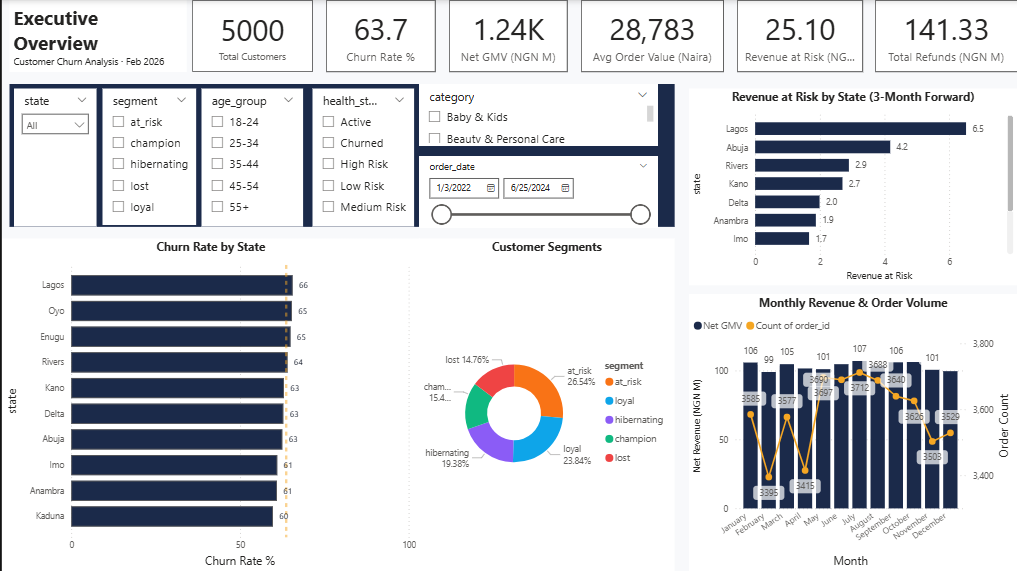

Layout of this report page (visuals, bound fields, positions):
{"tool":"powerbi","page":{"name":"Executive Overview","canvas":[1280,720],"ordinal":0},"visuals":[{"type":"textbox","box":[9.5,0,223,90.8],"z":0},{"type":"card","fields":{"Values":["churn_predictions.Total Customers"]},"box":[240.2,0,151.3,90.8],"z":1000},{"type":"card","fields":{"Values":["churn_predictions.Churn Rate %"]},"box":[408.2,0,138.1,90.8],"z":2000},{"type":"card","fields":{"Values":["churn_predictions.Net GMV"]},"box":[562.9,0,149.4,90.8],"z":3000},{"type":"card","fields":{"Values":["churn_predictions.Avg Order Value"]},"box":[729,0,179.7,90.8],"z":4000},{"type":"card","fields":{"Values":["churn_predictions.Revenue at Risk"]},"box":[925.3,0,158.9,90.8],"z":5000},{"type":"card","fields":{"Values":["churn_predictions.Total Refunds"]},"box":[1100.3,0,179.7,90.8],"z":6000},{"type":"clusteredBarChart","title":"Churn Rate by State","fields":{"Category":["customers.state"],"Y":["churn_predictions.Churn Rate %"]},"box":[0,300,526,420],"z":7000},{"type":"donutChart","title":"Customer Segments","fields":{"Y":["churn_predictions.Total Customers"],"Category":["customers.segment"]},"box":[526,300,322,420],"z":8000},{"type":"lineClusteredColumnComboChart","title":"Monthly Revenue & Order Volume","fields":{"Y":["churn_predictions.Net GMV"],"Y2":["CountNonNull(orders.order_id)"],"Category":["orders.order_date.Variation.Date Hierarchy.Month"]},"box":[866.1,371,413.4,349.8],"z":9000},{"type":"clusteredBarChart","title":"Revenue at Risk by State (3-Month Forward)","fields":{"Category":["churn_predictions.state"],"Y":["churn_predictions.Revenue at Risk"]},"box":[866.1,112.1,413.4,248.3],"z":10000},{"type":"shape","box":[10,106,838,180],"z":11000},{"type":"slicer","fields":{"Values":["customers.state"]},"box":[16,112,104,174],"z":12000},{"type":"slicer","fields":{"Values":["customers.segment"]},"box":[126,112,118,172],"z":13000},{"type":"slicer","fields":{"Values":["customers.age_group"]},"box":[252,112,128,174],"z":14000},{"type":"slicer","fields":{"Values":["churn_predictions.health_status"]},"box":[392,112,128,174],"z":15000},{"type":"slicer","fields":{"Values":["orders.order_date"]},"box":[526,196,300,90],"z":16000},{"type":"slicer","fields":{"Values":["orders.category"]},"box":[526,106,300,78],"z":17000}]}

Visuals, with their boxes in screenshot pixels (x1, y1, x2, y2), scaled from the page's 1280x720 canvas onto the 1017x571 screenshot:
textbox: [8,0,185,72]
card - churn_predictions.Total Customers: [191,0,311,72]
card - churn_predictions.Churn Rate %: [324,0,434,72]
card - churn_predictions.Net GMV: [447,0,566,72]
card - churn_predictions.Avg Order Value: [579,0,722,72]
card - churn_predictions.Revenue at Risk: [735,0,861,72]
card - churn_predictions.Total Refunds: [874,0,1016,72]
"Churn Rate by State" clusteredBarChart: [0,238,418,570]
"Customer Segments" donutChart: [418,238,674,570]
"Monthly Revenue & Order Volume" lineClusteredColumnComboChart: [688,294,1016,570]
"Revenue at Risk by State (3-Month Forward)" clusteredBarChart: [688,89,1016,286]
shape: [8,84,674,227]
slicer - customers.state: [13,89,95,227]
slicer - customers.segment: [100,89,194,225]
slicer - customers.age_group: [200,89,302,227]
slicer - churn_predictions.health_status: [311,89,413,227]
slicer - orders.order_date: [418,155,656,227]
slicer - orders.category: [418,84,656,146]
